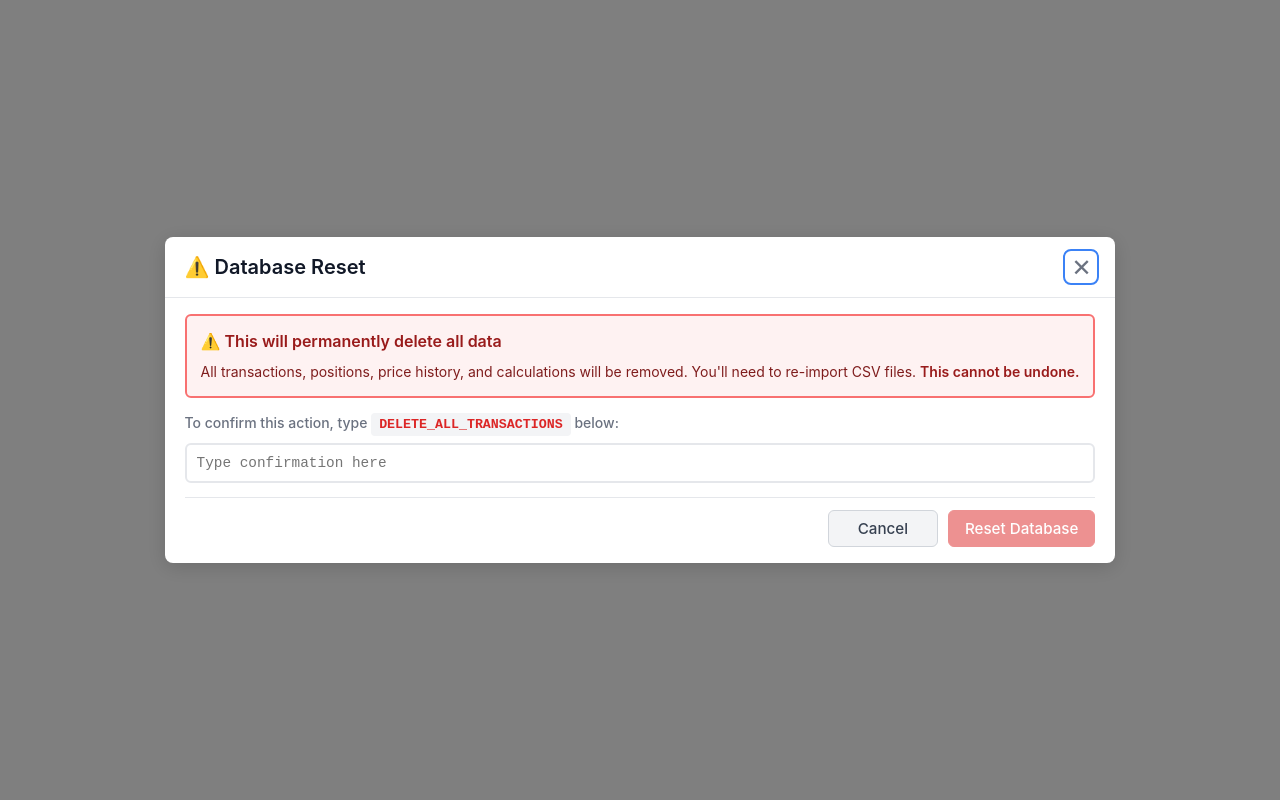
DatabaseResetModal › Reset Process › shows loading state during reset
# Type correct confirmation
Type "DELETE_ALL_TRANSACTIONS" into the field with placeholder "Type confirmation here" at point(640, 463), box top-left (184, 443), bottom-right (1095, 483)
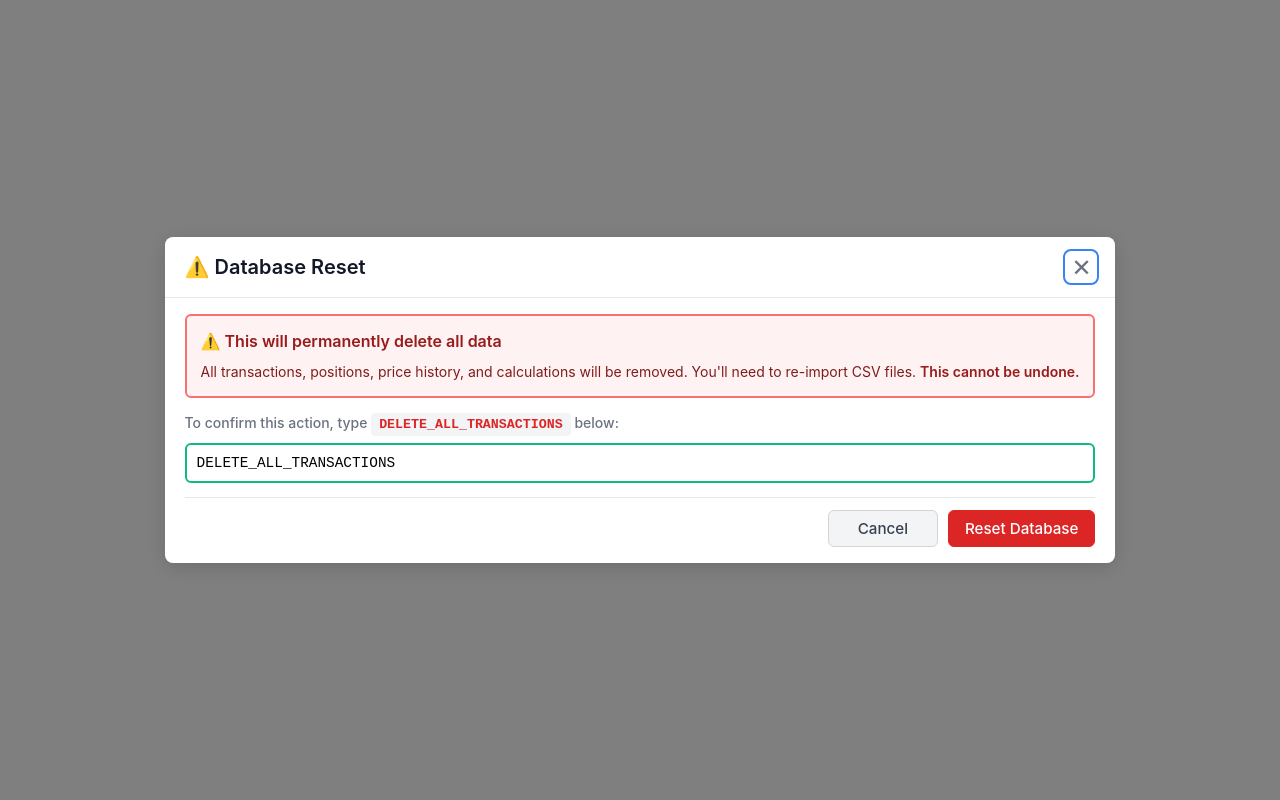
# Click reset
Click the button "Reset Database" at point(1022, 528), box top-left (948, 510), bottom-right (1096, 547)
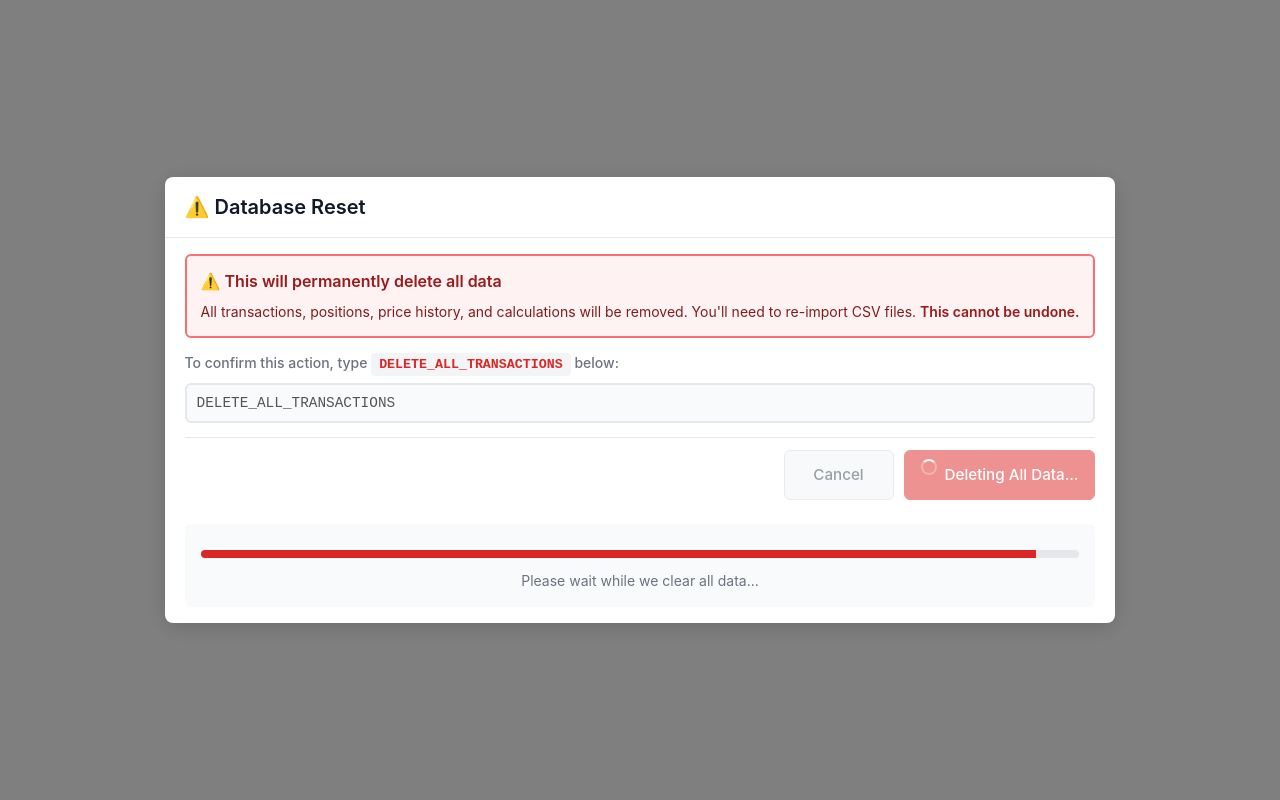
Expected: the button "Deleting All Data..." is shown, top-left (904, 450), bottom-right (1096, 500)
Expected: the text "Please wait while we clear all data..." is shown, top-left (521, 572), bottom-right (759, 589)
